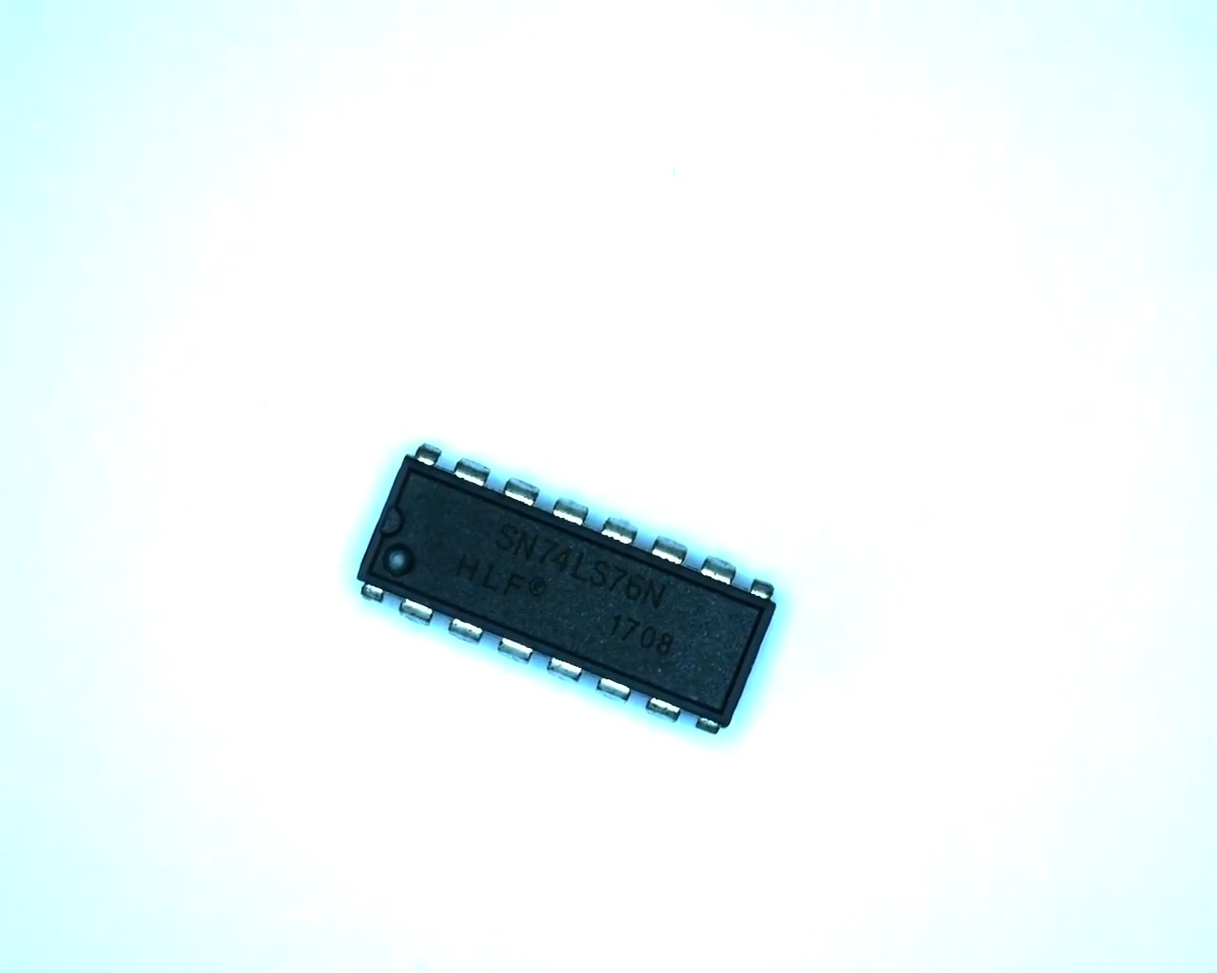IC: (344, 431, 793, 751)
notch: (374, 502, 406, 538)
